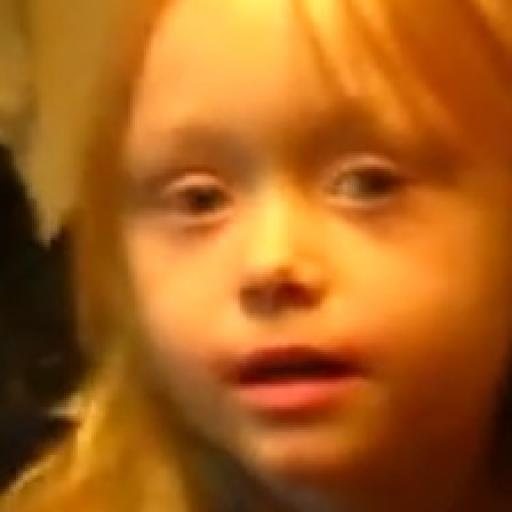Autism: (90, 14, 492, 503)
